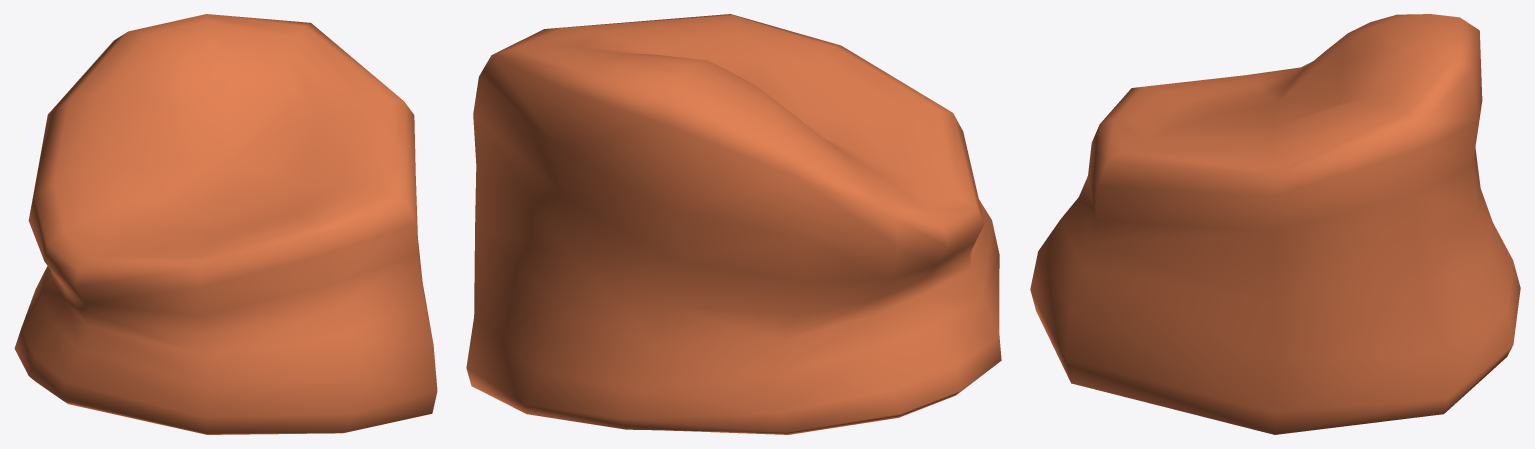
Rendered from beanBag_01.fbx.
The picture shows the model from 3 angles, left to right: view 1: azimuth 30°, elevation 25°; view 2: azimuth 150°, elevation 25°; view 3: azimuth 270°, elevation 25°; orthographic projection. The views are drawn at different scales.
Visible parts, largest first — view 1: beanBag01; view 2: beanBag01; view 3: beanBag01.
Boxes of the visible parts, left/top/right/bottom form: beanBag01: left=14, top=14, right=437, bottom=434; beanBag01: left=466, top=14, right=1001, bottom=434; beanBag01: left=1030, top=14, right=1520, bottom=434.
Size of the model in its own units: 2.33 by 1.75 by 2.44.
